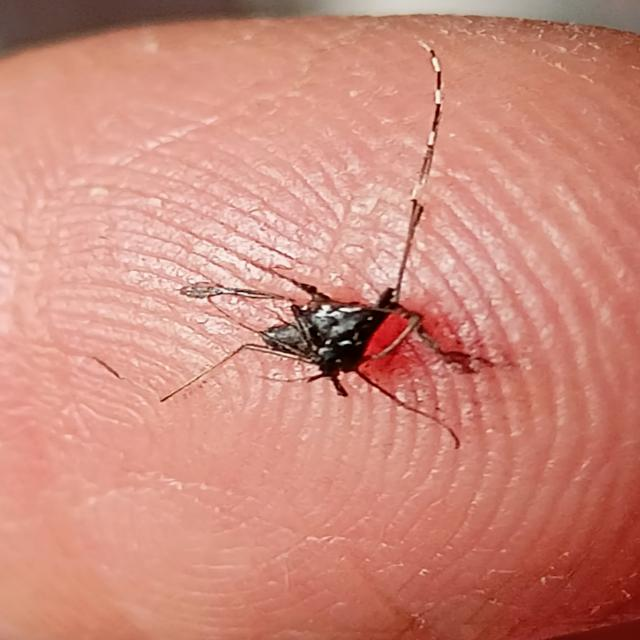albopictus: (116, 185, 514, 450)
